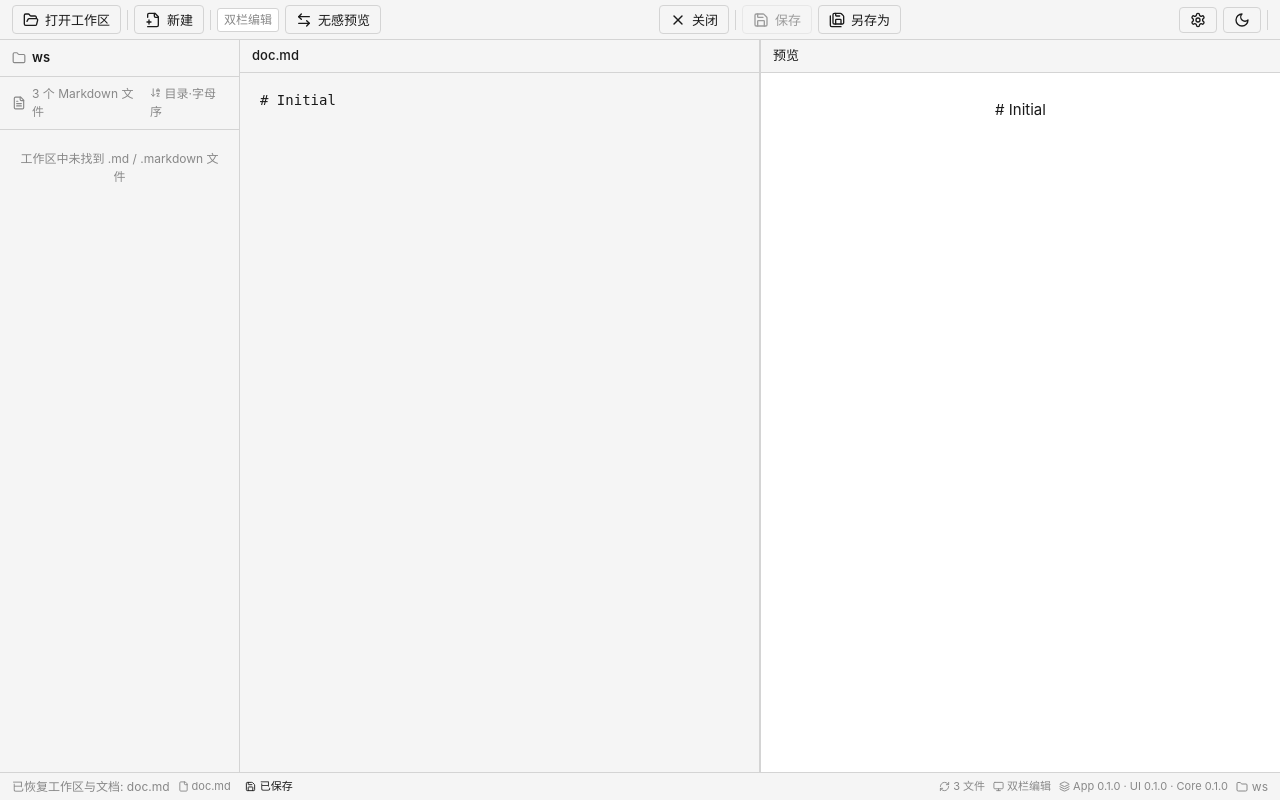
Scenario: T11 — 无感编辑器与保存状态联动 › 保存后 dirty 状态正确清除（set_document_dirty false）
The image size is (1280, 800).
# Make dirty.
Replace the text in the text box with class "content-editor-textarea" with "# Saved content": (500, 422) [240,72,759,772]
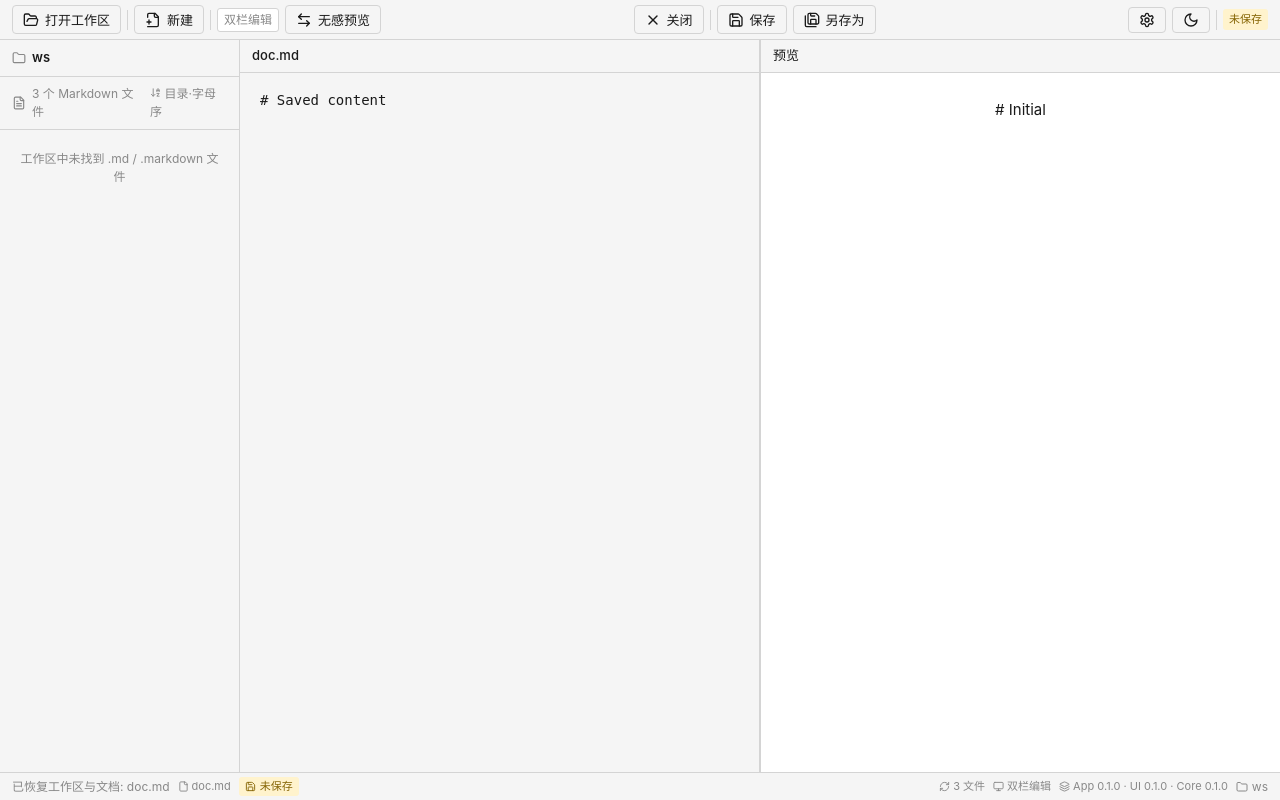
# Trigger save (Cmd+S). save_document is in-flight via controllable promise.
Press s
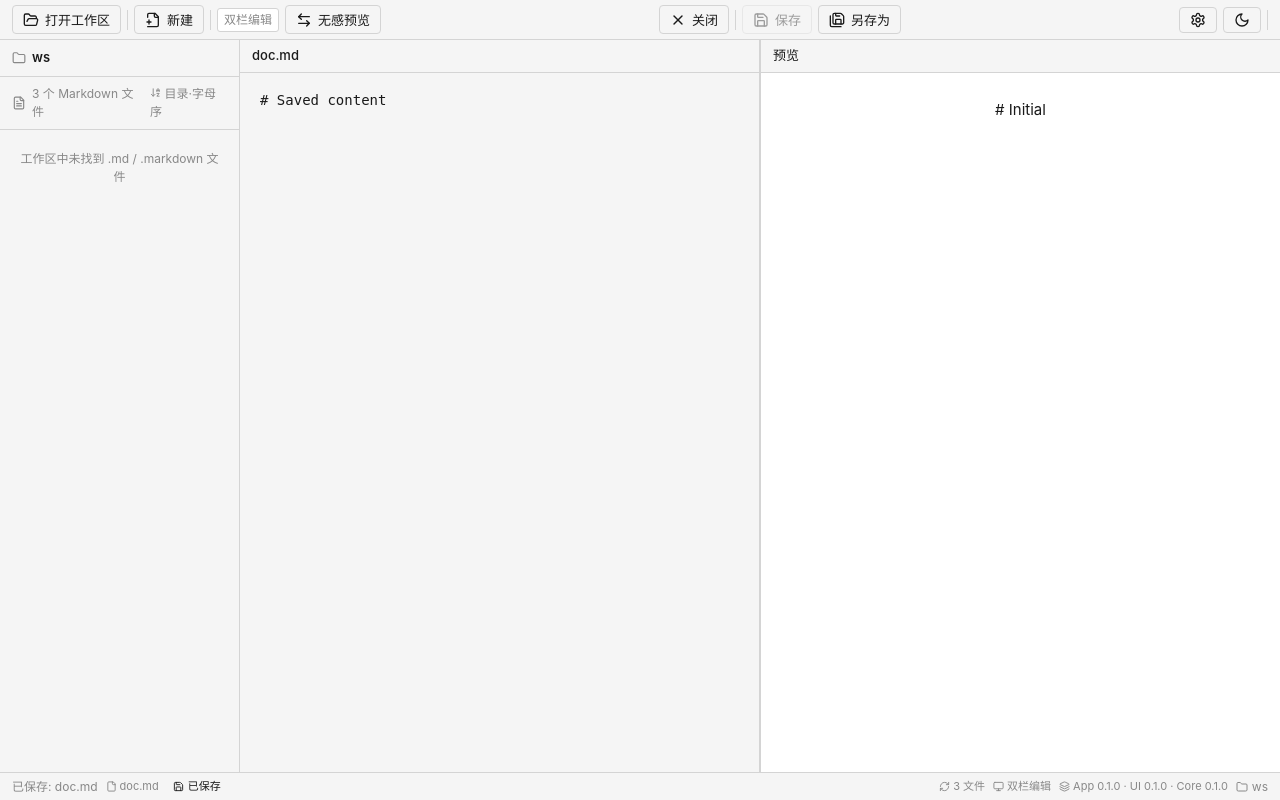
expect the button "保存" is disabled: met, box [742,5,812,34]
